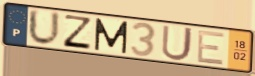3: (129, 22, 159, 58)
E: (195, 29, 227, 67)
M: (93, 17, 130, 55)
U: (27, 7, 62, 48), (160, 24, 195, 63)
Z: (61, 13, 94, 51)
